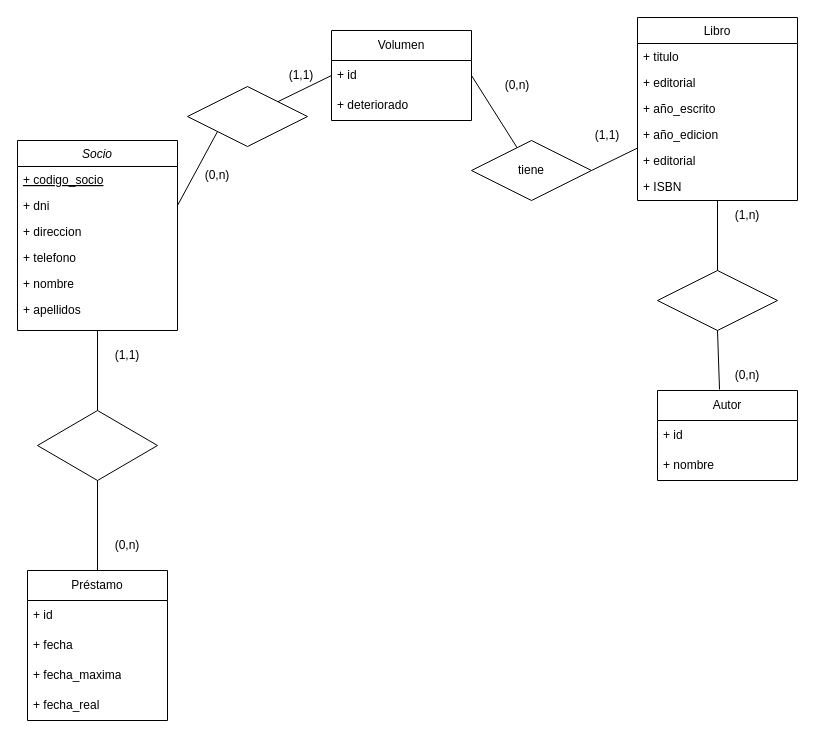
This 815x738 diagram has some shape labels left out. The centre of each missing label's shape, as x and y in pixels:
"escribe" goes at point (717, 300).
"hacer" goes at point (97, 445).
"presta" goes at point (247, 116).
